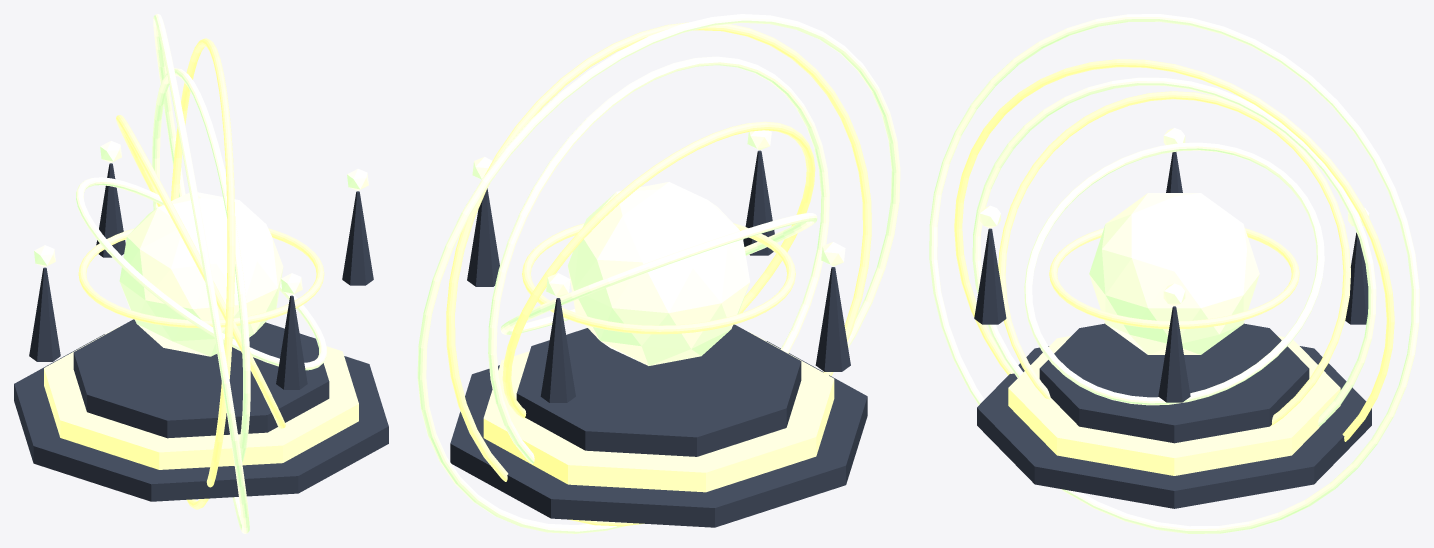
File: gpu-blender-v30.glb
3 views of the same model, side by side, from view 1: azimuth 30°, elevation 25°; view 2: azimuth 150°, elevation 25°; view 3: azimuth 270°, elevation 25° (orthographic). The views are drawn at different scales.
Visible parts, largest first — view 1: Cylinder.002, Cylinder, SovereignCore_digital-asset-forge, Cylinder.001, Torus.005, Torus.004, Torus.003, Torus.001, Torus, Torus.002, Cone, Cone.003 (+2 smaller); view 2: Cylinder.002, SovereignCore_digital-asset-forge, Cylinder, Cylinder.001, Torus.005, Torus.004, Torus.003, Torus.002, Torus, Torus.001, Cone.002, Cone.001 (+2 smaller); view 3: SovereignCore_digital-asset-forge, Cylinder.002, Cylinder, Cylinder.001, Torus.005, Torus.004, Torus.001, Torus.002, Torus.003, Torus, Cone, Cone.003 (+1 smaller).
Part boxes in pixels (<box>): Cylinder.002: <box>73,319,329,438</box>; Cylinder: <box>14,334,388,501</box>; SovereignCore_digital-asset-forge: <box>119,192,283,356</box>; Cylinder.001: <box>44,326,358,469</box>; Torus.005: <box>153,14,249,533</box>; Torus.004: <box>171,38,235,509</box>; Torus.003: <box>152,68,250,461</box>; Torus.001: <box>76,177,326,370</box>; Torus: <box>78,228,324,328</box>; Torus.002: <box>116,115,285,428</box>; Cone: <box>342,191,373,285</box>; Cone.003: <box>276,295,307,389</box>; Cylinder.002: <box>516,324,801,456</box>; SovereignCore_digital-asset-forge: <box>568,182,749,365</box>; Cylinder: <box>450,341,867,527</box>; Cylinder.001: <box>483,332,834,492</box>; Torus.005: <box>417,14,900,533</box>; Torus.004: <box>446,22,871,526</box>; Torus.003: <box>488,56,829,463</box>; Torus.002: <box>502,121,815,418</box>; Torus: <box>522,223,795,334</box>; Torus.001: <box>500,213,817,334</box>; Cone.002: <box>815,267,850,371</box>; Cone.001: <box>540,298,575,402</box>; SovereignCore_digital-asset-forge: <box>1089,193,1259,354</box>; Cylinder.002: <box>1039,323,1309,443</box>; Cylinder: <box>977,346,1371,508</box>; Cylinder.001: <box>1008,336,1340,475</box>; Torus.005: <box>929,14,1419,533</box>; Torus.004: <box>954,59,1394,441</box>; Torus.001: <box>1024,142,1324,405</box>; Torus.002: <box>998,91,1350,425</box>; Torus.003: <box>972,77,1376,426</box>; Torus: <box>1049,228,1299,328</box>; Cone: <box>1158,306,1190,402</box>; Cone.003: <box>974,228,1006,324</box>.
Bounding box in the file's own units: 4.41 × 5.93 × 5.46.
